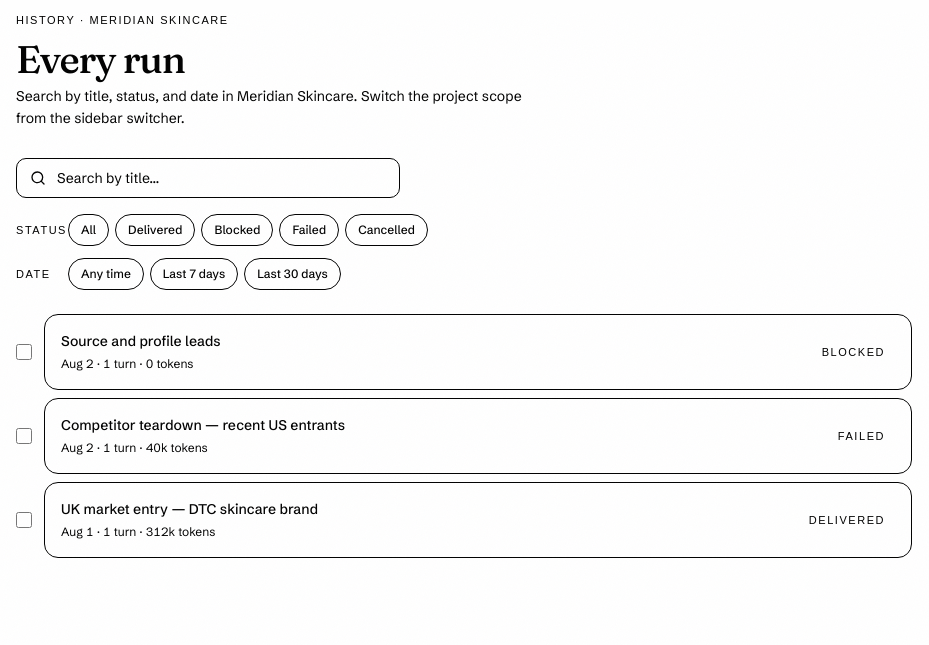
HistoryPage › clears selection when a filter changes so hidden rows cannot stay selected
The width and height of the screenshot is (929, 645).
What coordinates should you click on to do the following:
click the checkbox named "Select Source and profile leads"
I would click on:
 (24, 352)
Its box is [16, 344, 32, 360].
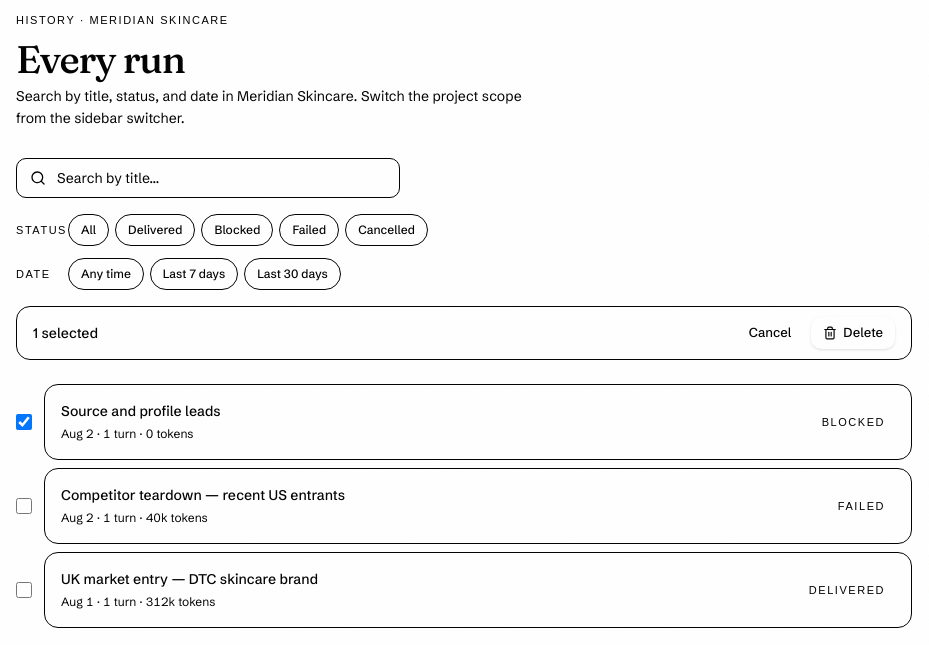
Expected: the text "1 selected" is shown, [33, 323, 98, 343]
What coordinates should you click on to do the following:
click the radio button labelled "Delivered"
I would click on:
 (155, 230)
Its box is [115, 214, 196, 246].
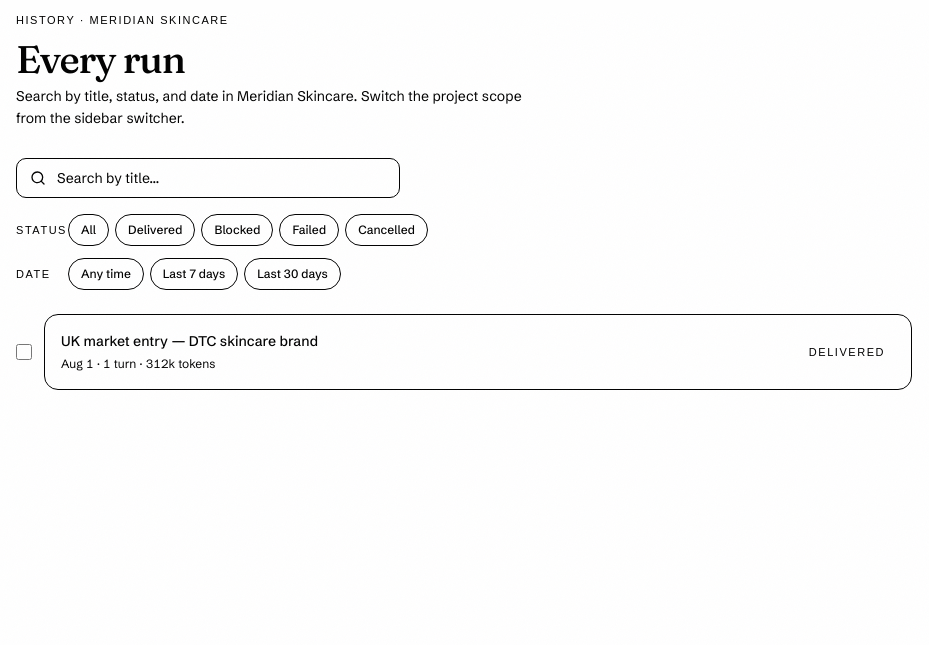
Expected: the text "selected" is gone
